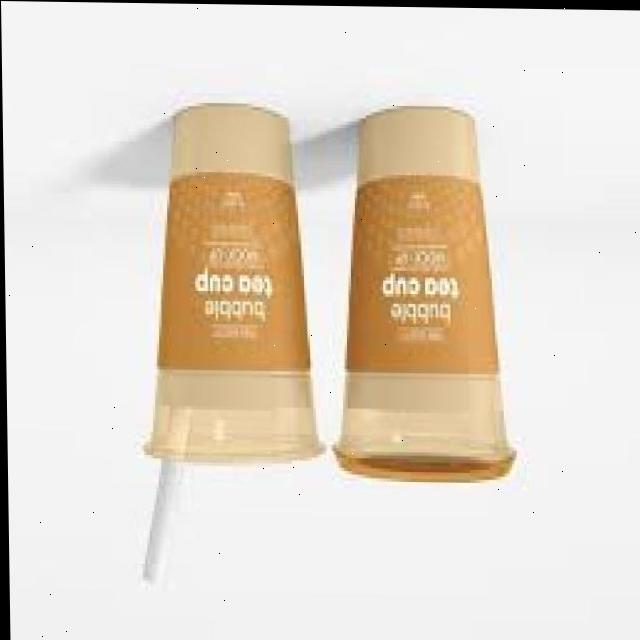cup: (333, 106, 513, 477), (143, 104, 317, 462)
